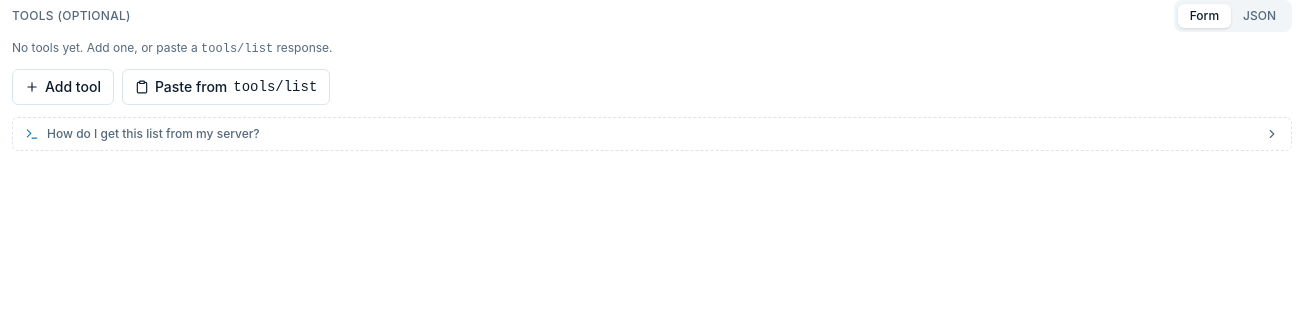
Test case: ToolsEditor accepts raw tools/list output in the JSON tab › unwraps the {tools: …} envelope and normalizes inputSchema
The width and height of the screenshot is (1304, 318).
Click the tab "JSON".
click(1260, 16)  # box [1231,4,1288,28]
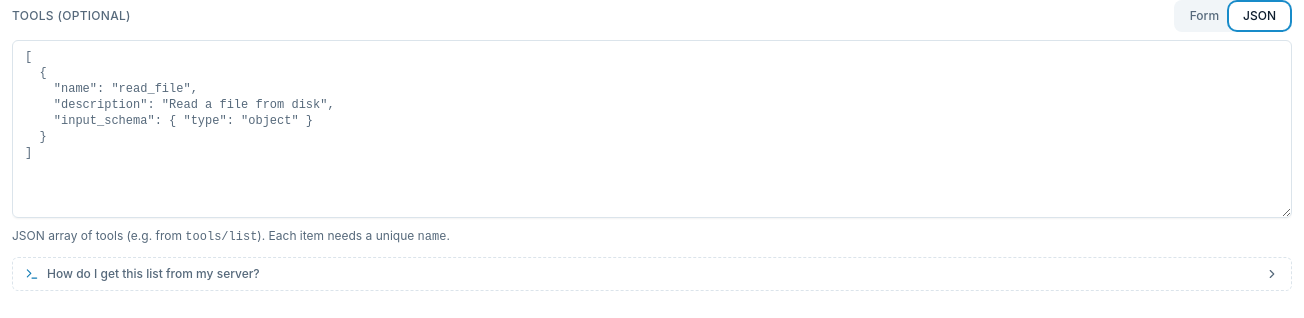
Click the text box named "Tools (JSON)".
click(652, 129)  # box [12,40,1292,218]
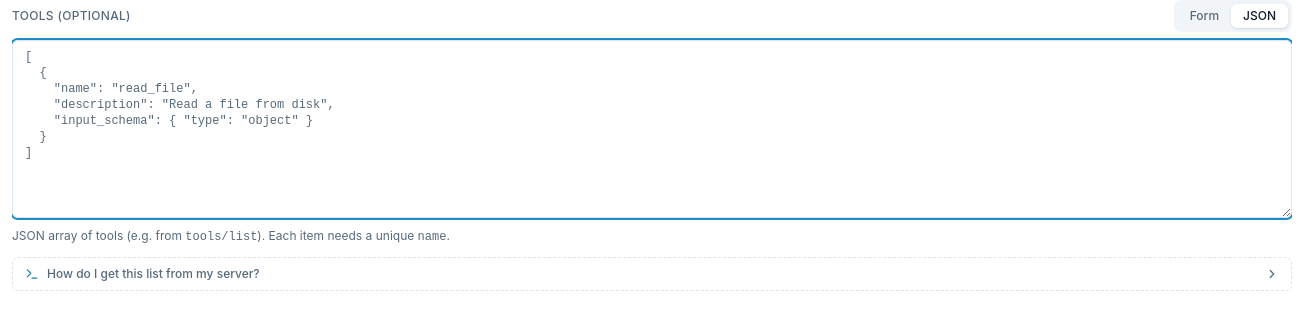
// Verbatim shape of a live tools/list JSON-RPC result.
Type keys "{\"tools\":[{\"name\":\"get_forecast\",\"inputSchema\":{\"type\":\"object\"}}]}"
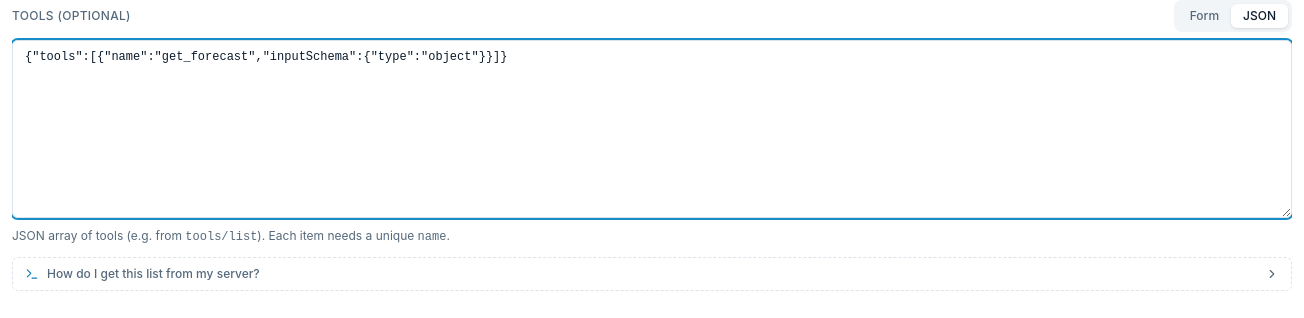
// The structured view hydrates from the same normalized parse.
Click the tab "Form".
click(1204, 16)  # box [1178,4,1231,28]
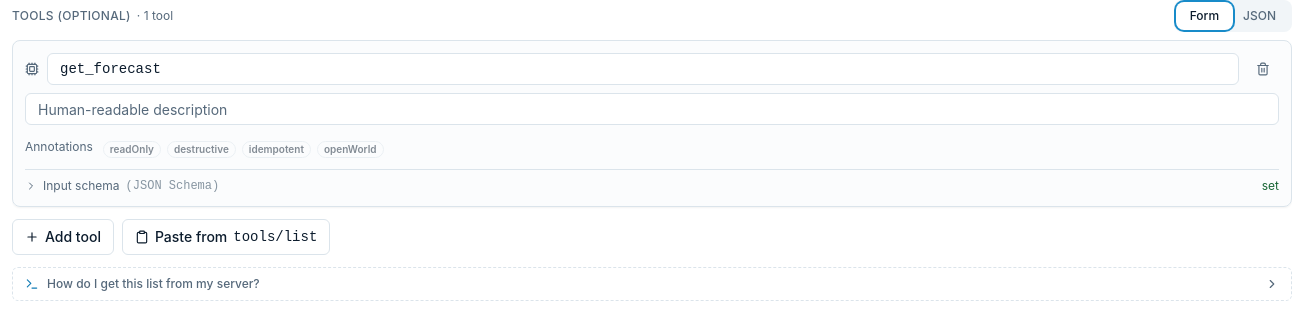
expect the field named "Tool 1 name" holds "get_forecast": met, box [47,53,1239,85]
